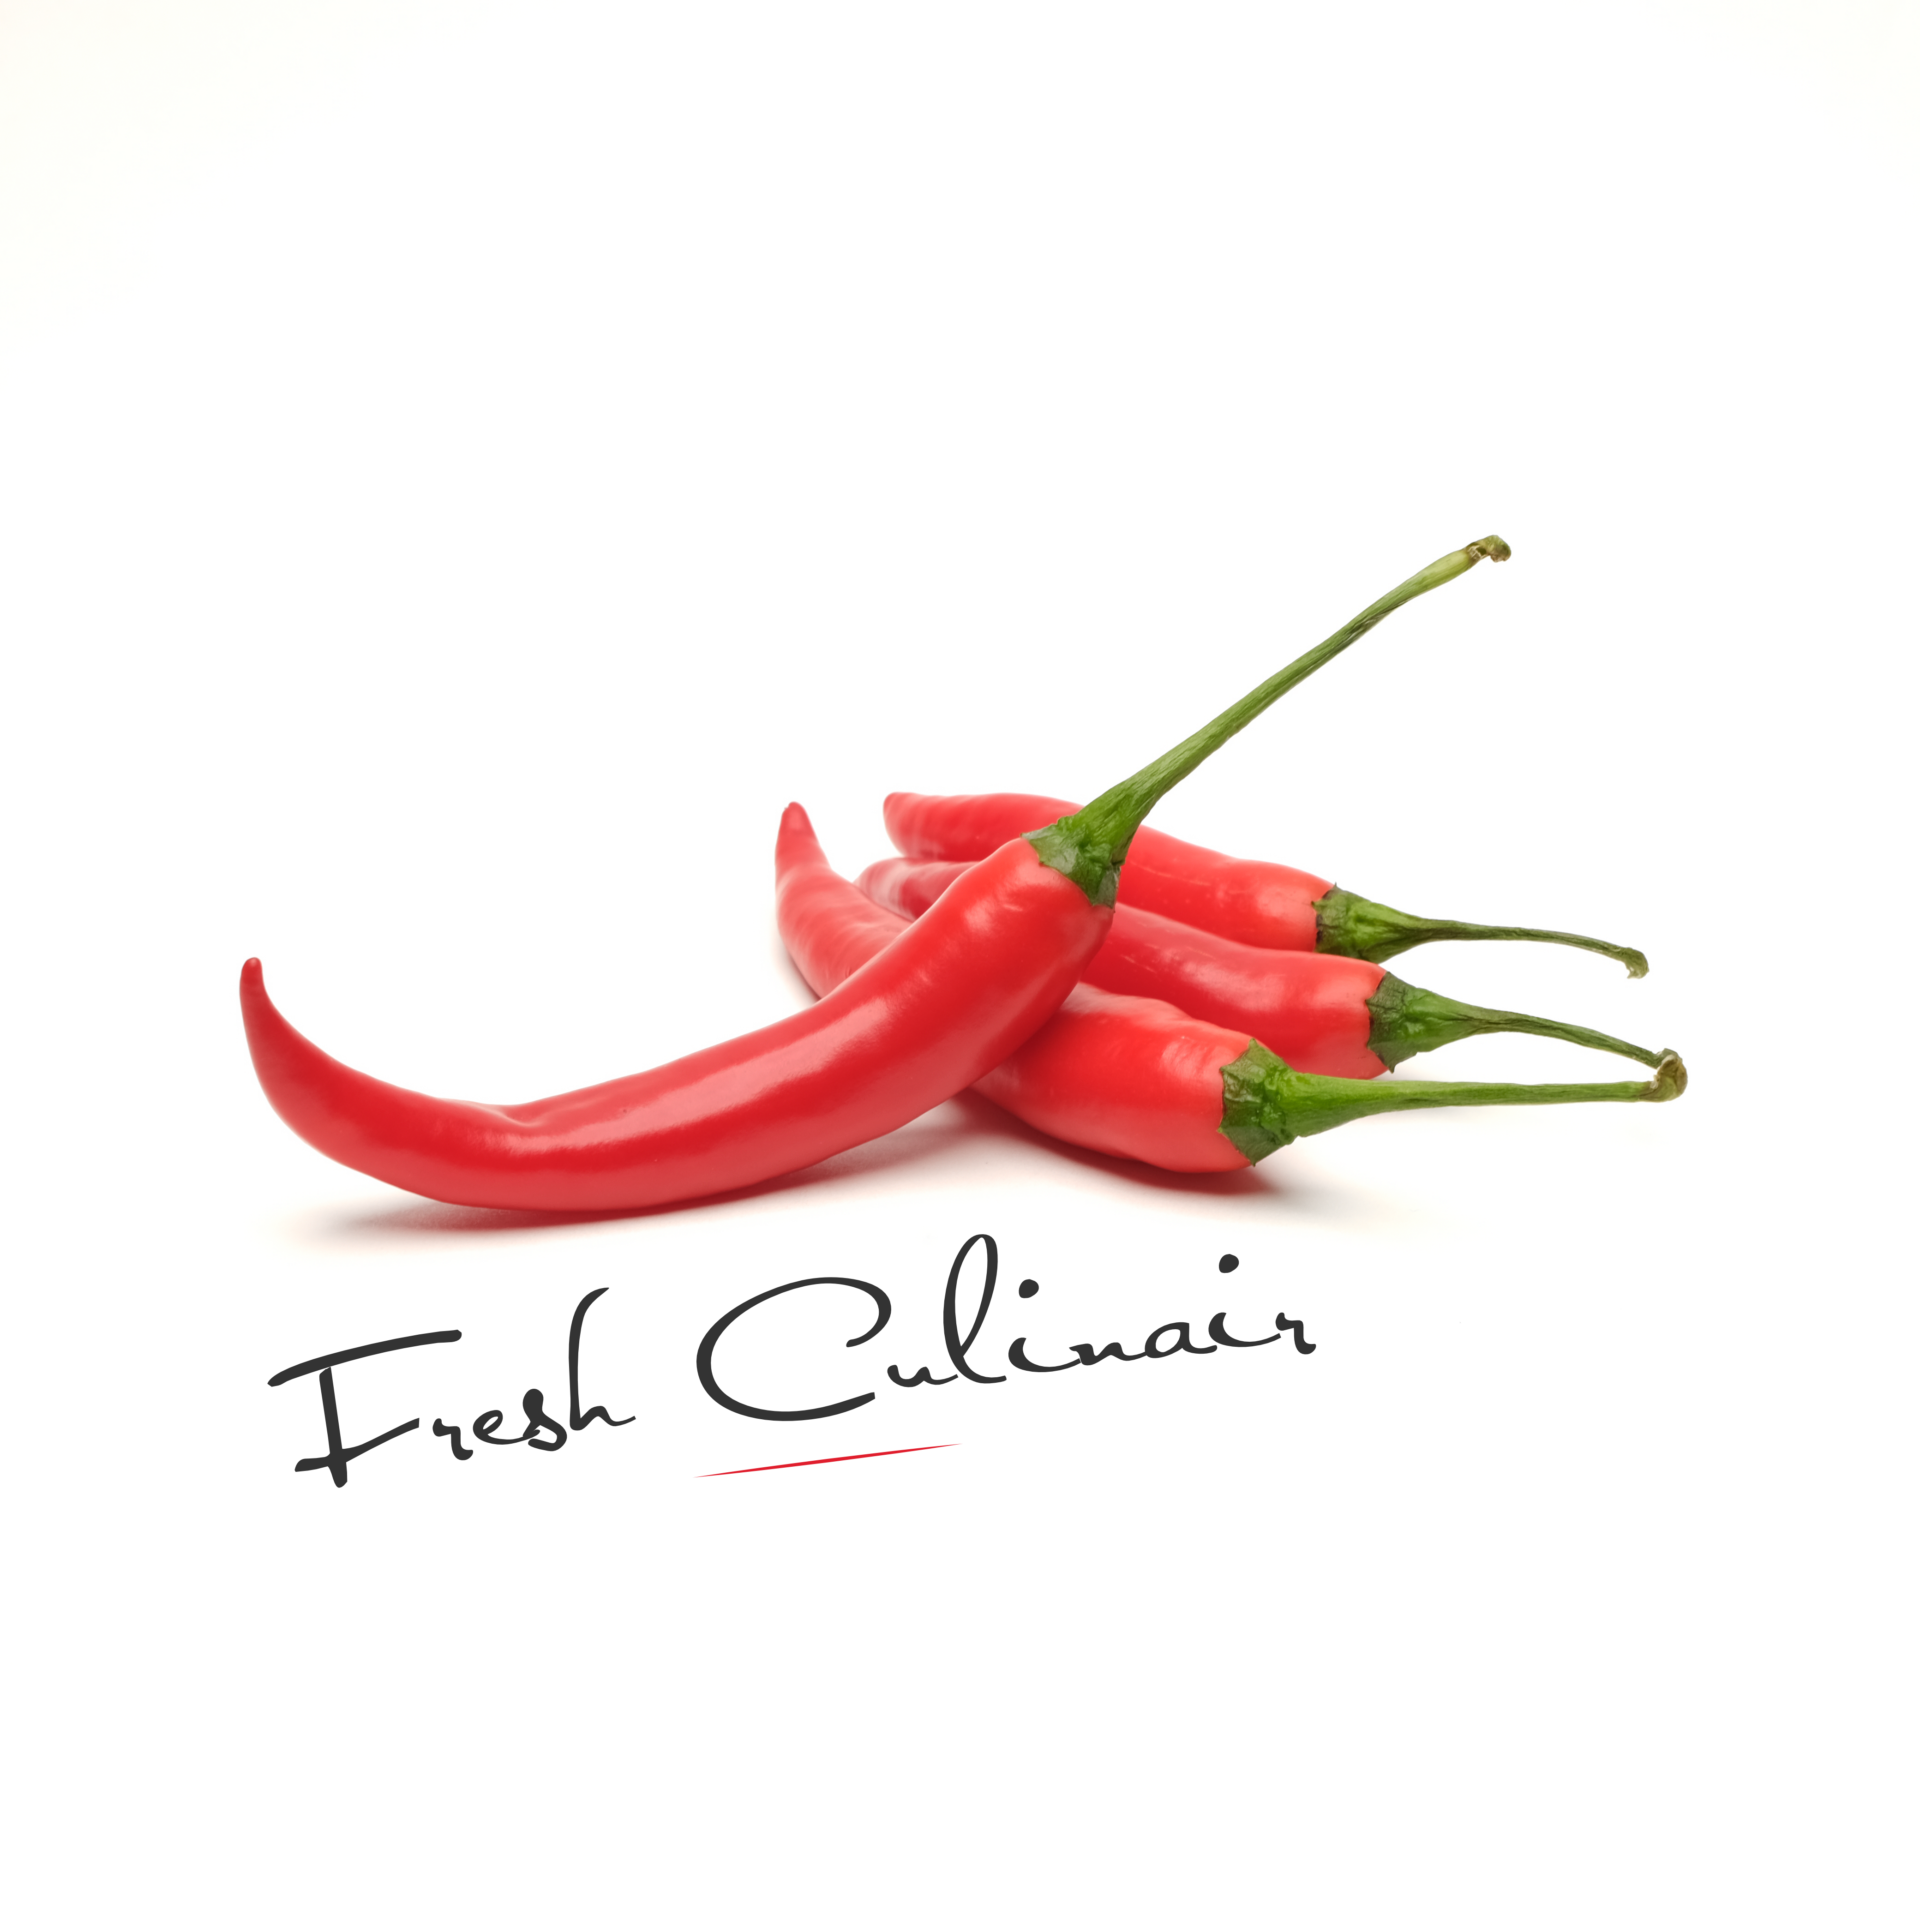Cabai: (5, 339, 1876, 1656)
